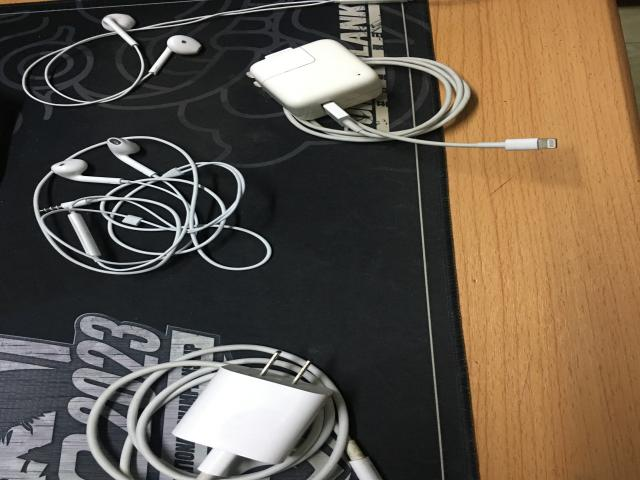wire: (87, 345, 348, 480), (248, 39, 555, 149), (33, 136, 272, 275), (22, 13, 204, 106)
